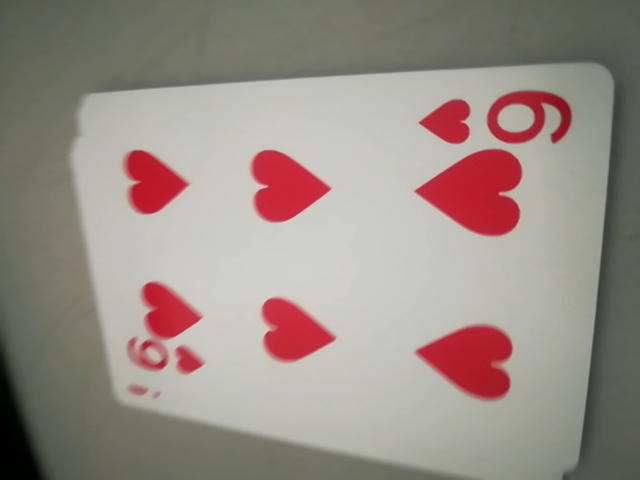hx 6: (414, 85, 572, 154)
